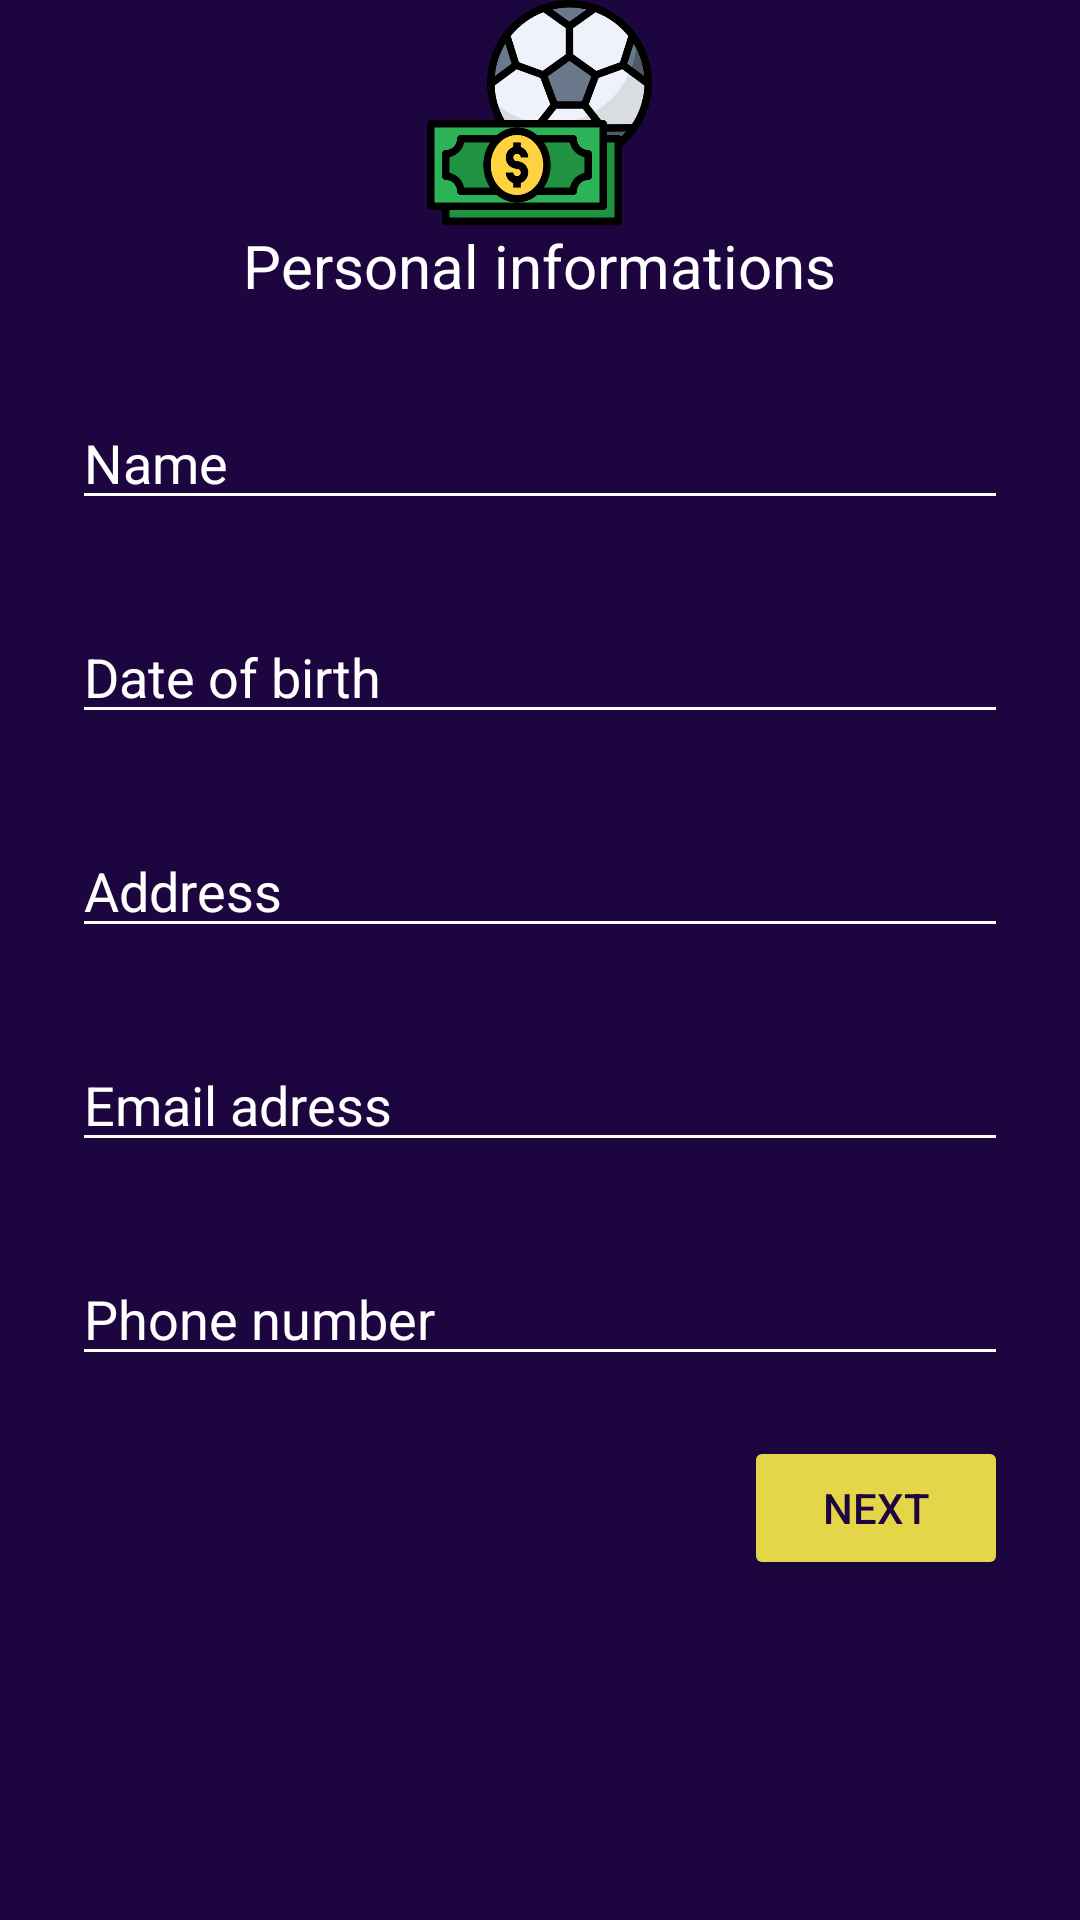

Locate icon controls on the screen. Image size 1080px x 1920px, boxes as (x1, y1, x2, y2).
money: (427, 0, 652, 225)
